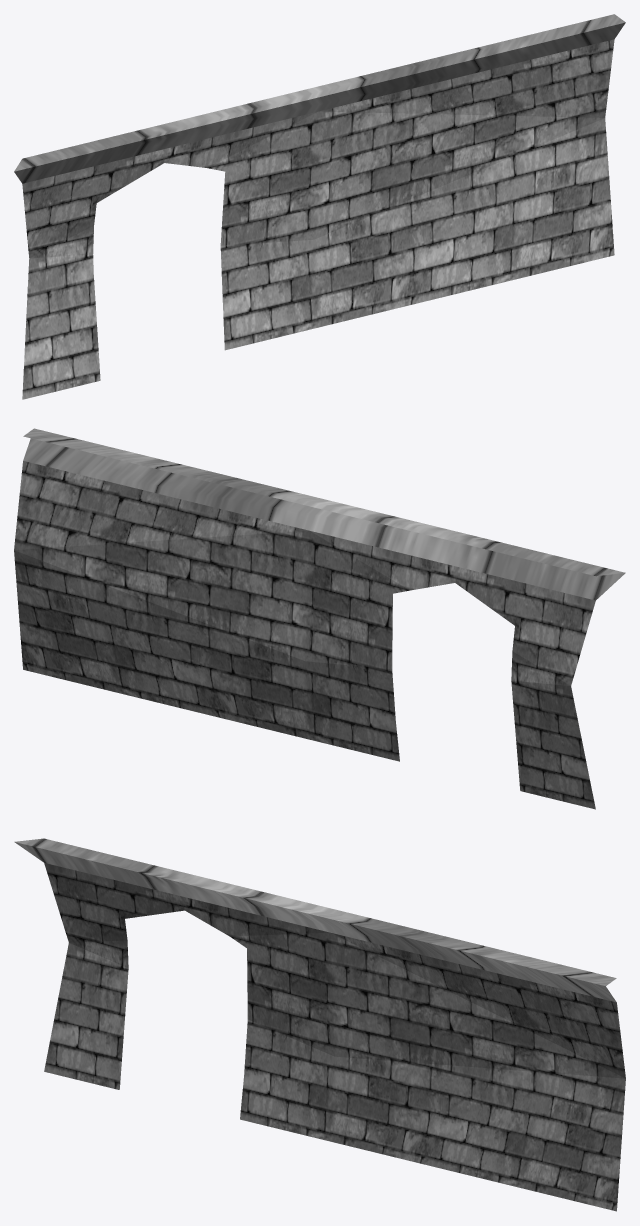
The model's file is W_A2l_oxxx [GraueZiegel]_882.glb.
3 renders of one model, top to bottom at view 1: azimuth 30°, elevation 25°; view 2: azimuth 150°, elevation 25°; view 3: azimuth 330°, elevation 25°, orthographic. The views are drawn at different scales.
Parts seen in each view (by area): view 1: polySurfaceShape787, polySurfaceShape1065; view 2: polySurfaceShape787, polySurfaceShape1065; view 3: polySurfaceShape787, polySurfaceShape1065.
Boxes of the visible parts, bbox=[...] form: polySurfaceShape787: bbox=[22, 39, 614, 399]; polySurfaceShape1065: bbox=[14, 14, 625, 183]; polySurfaceShape787: bbox=[14, 461, 595, 809]; polySurfaceShape1065: bbox=[23, 428, 625, 600]; polySurfaceShape787: bbox=[44, 863, 625, 1211]; polySurfaceShape1065: bbox=[14, 838, 616, 1002].
Bounding box in the file's own units: 1.03 × 0.3891 × 0.0607.
2 materials, 2 textured.
